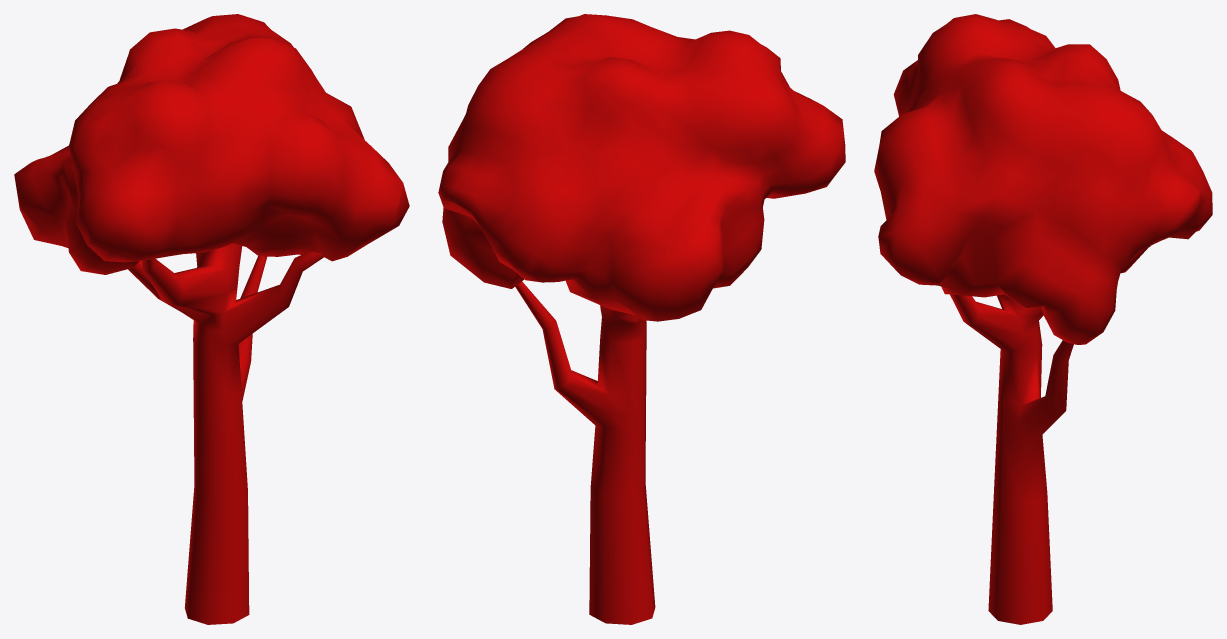
Rendered from ArbolChuteChuteGol.fbx.
3 renders of one model, left to right at view 1: azimuth 30°, elevation 25°; view 2: azimuth 150°, elevation 25°; view 3: azimuth 270°, elevation 25°, orthographic. The views are drawn at different scales.
Visible parts, largest first — view 1: Árbol002; view 2: Árbol002; view 3: Árbol002.
Boxes of the visible parts, x1=… form: Árbol002: x1=14, y1=14, x2=409, y2=624; Árbol002: x1=438, y1=14, x2=845, y2=624; Árbol002: x1=874, y1=14, x2=1212, y2=624.
Size of the model in its own units: 2.31 by 3.98 by 2.19.
